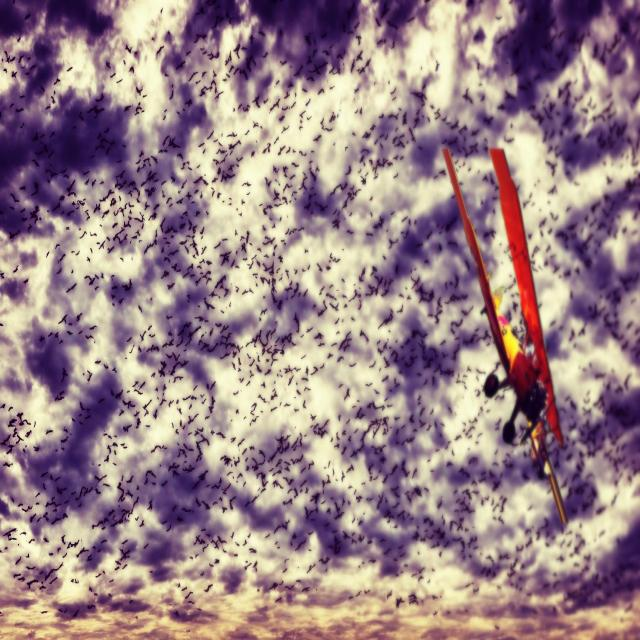airplane: (441, 145, 568, 529)
